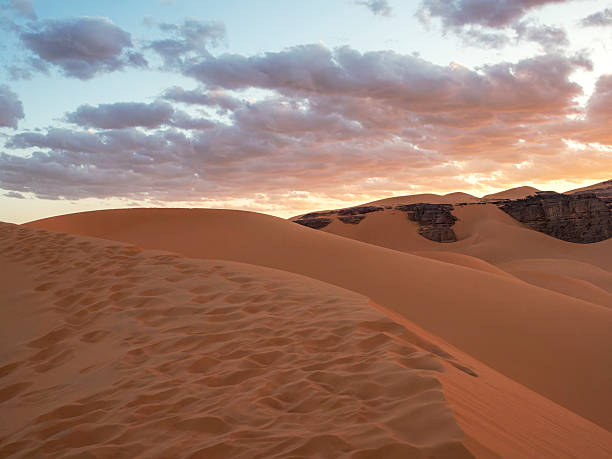animal_footprint: (4, 229, 471, 453)
